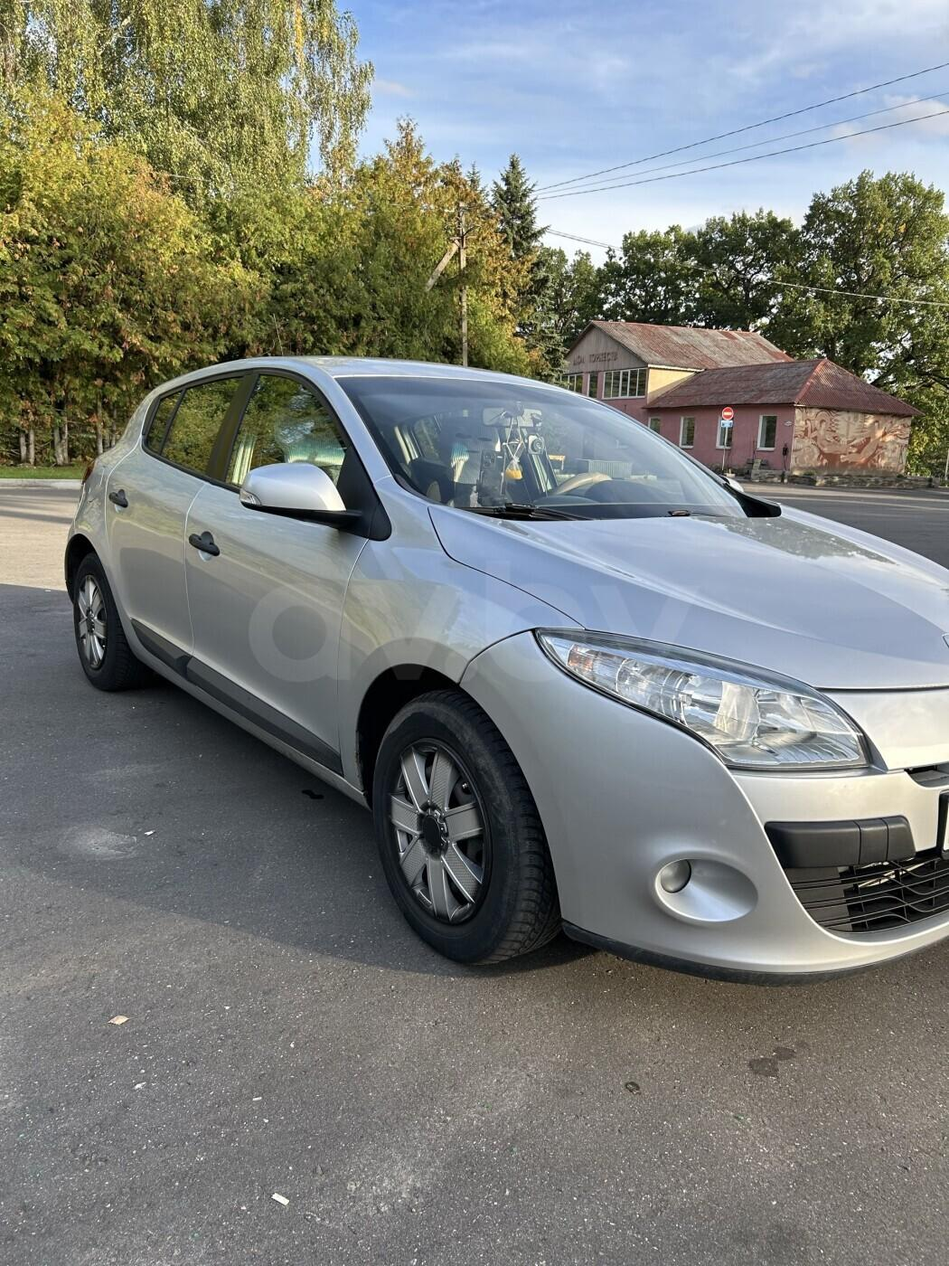Megane_2008-2014: (54, 356, 949, 982)
